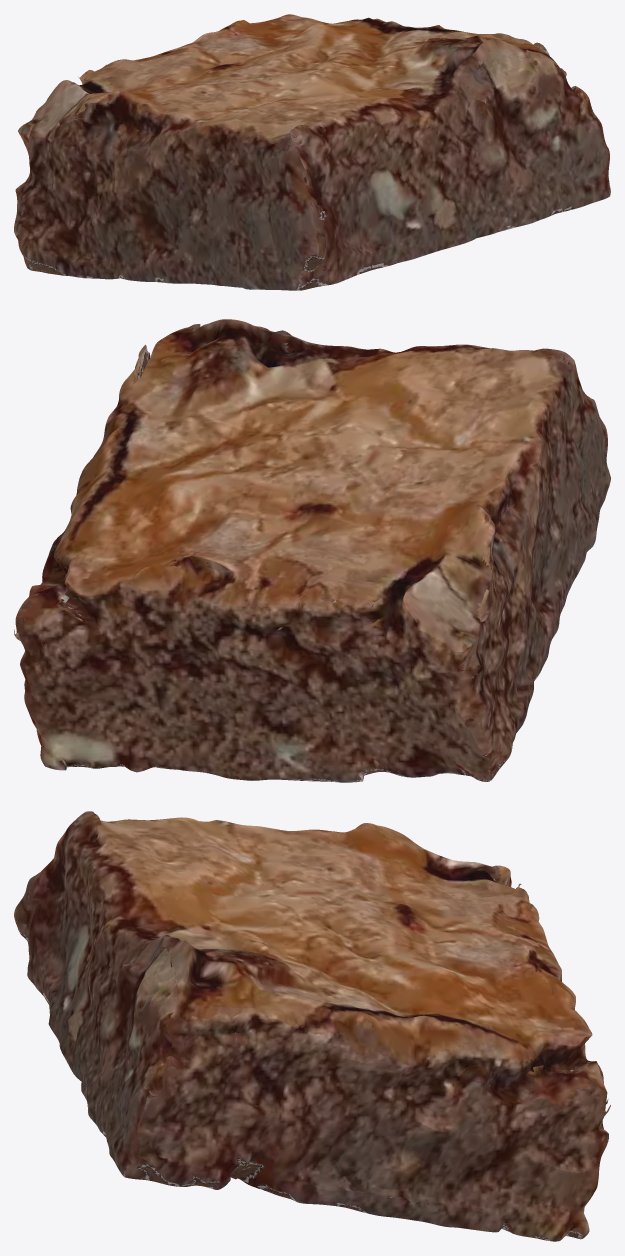
File: brownie_01.glb
The picture shows the model from 3 angles, top to bottom: view 1: azimuth 30°, elevation 25°; view 2: azimuth 150°, elevation 25°; view 3: azimuth 270°, elevation 25°; orthographic projection. The views are drawn at different scales.
Visible parts, largest first — view 1: Object_2; view 2: Object_2; view 3: Object_2.
Part boxes in pixels (x1,y1,x2,y2): Object_2: [14, 14, 610, 290]; Object_2: [14, 319, 610, 782]; Object_2: [14, 811, 610, 1241].
Bounding box in the file's own units: 89.14 × 49.38 × 89.06.
Materials: 1 (1 with a texture image).
